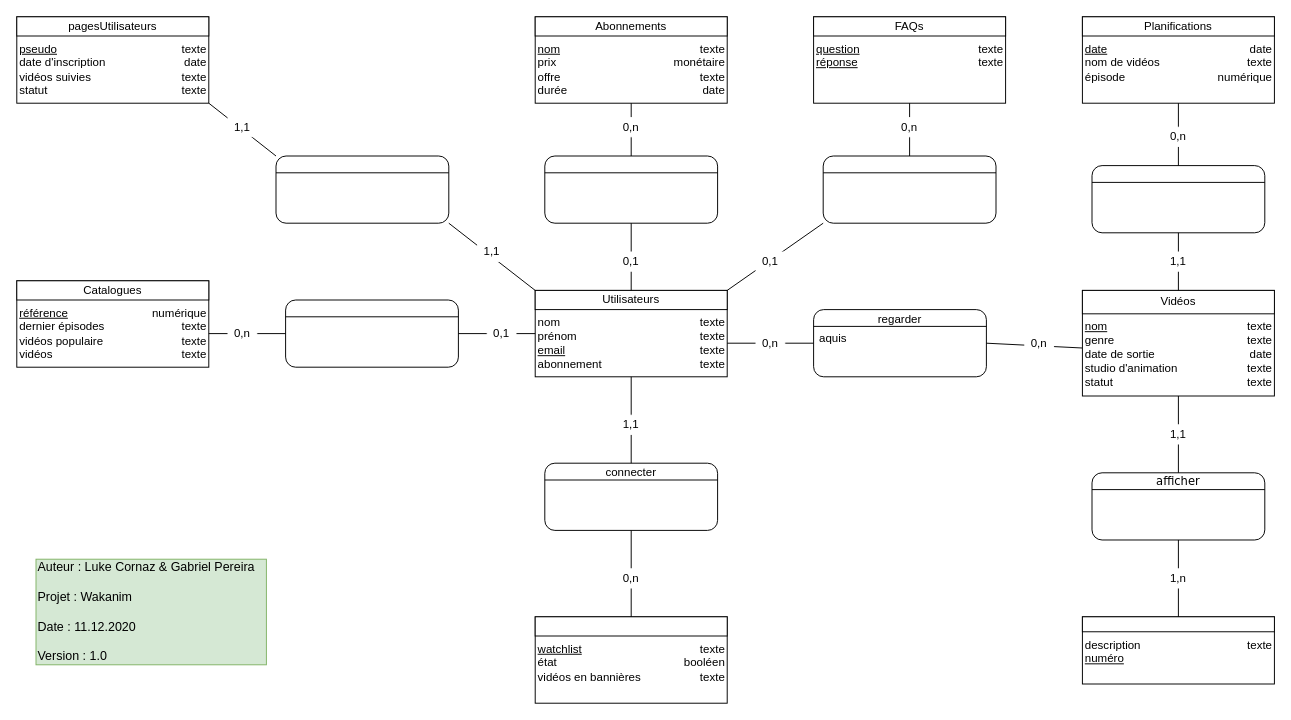
The diagram is 1291 pixels wide and 720 high, and some of its shapes have lost their labels. The centre of each missing label's shape, as x and y in pixels:
Accueil: the point at 630,626
consulter: the point at 909,189
découvrir: the point at 371,333
détenir: the point at 362,189
posséder: the point at 631,189
répértorier: the point at 1178,199
Statuts: the point at 1177,624
